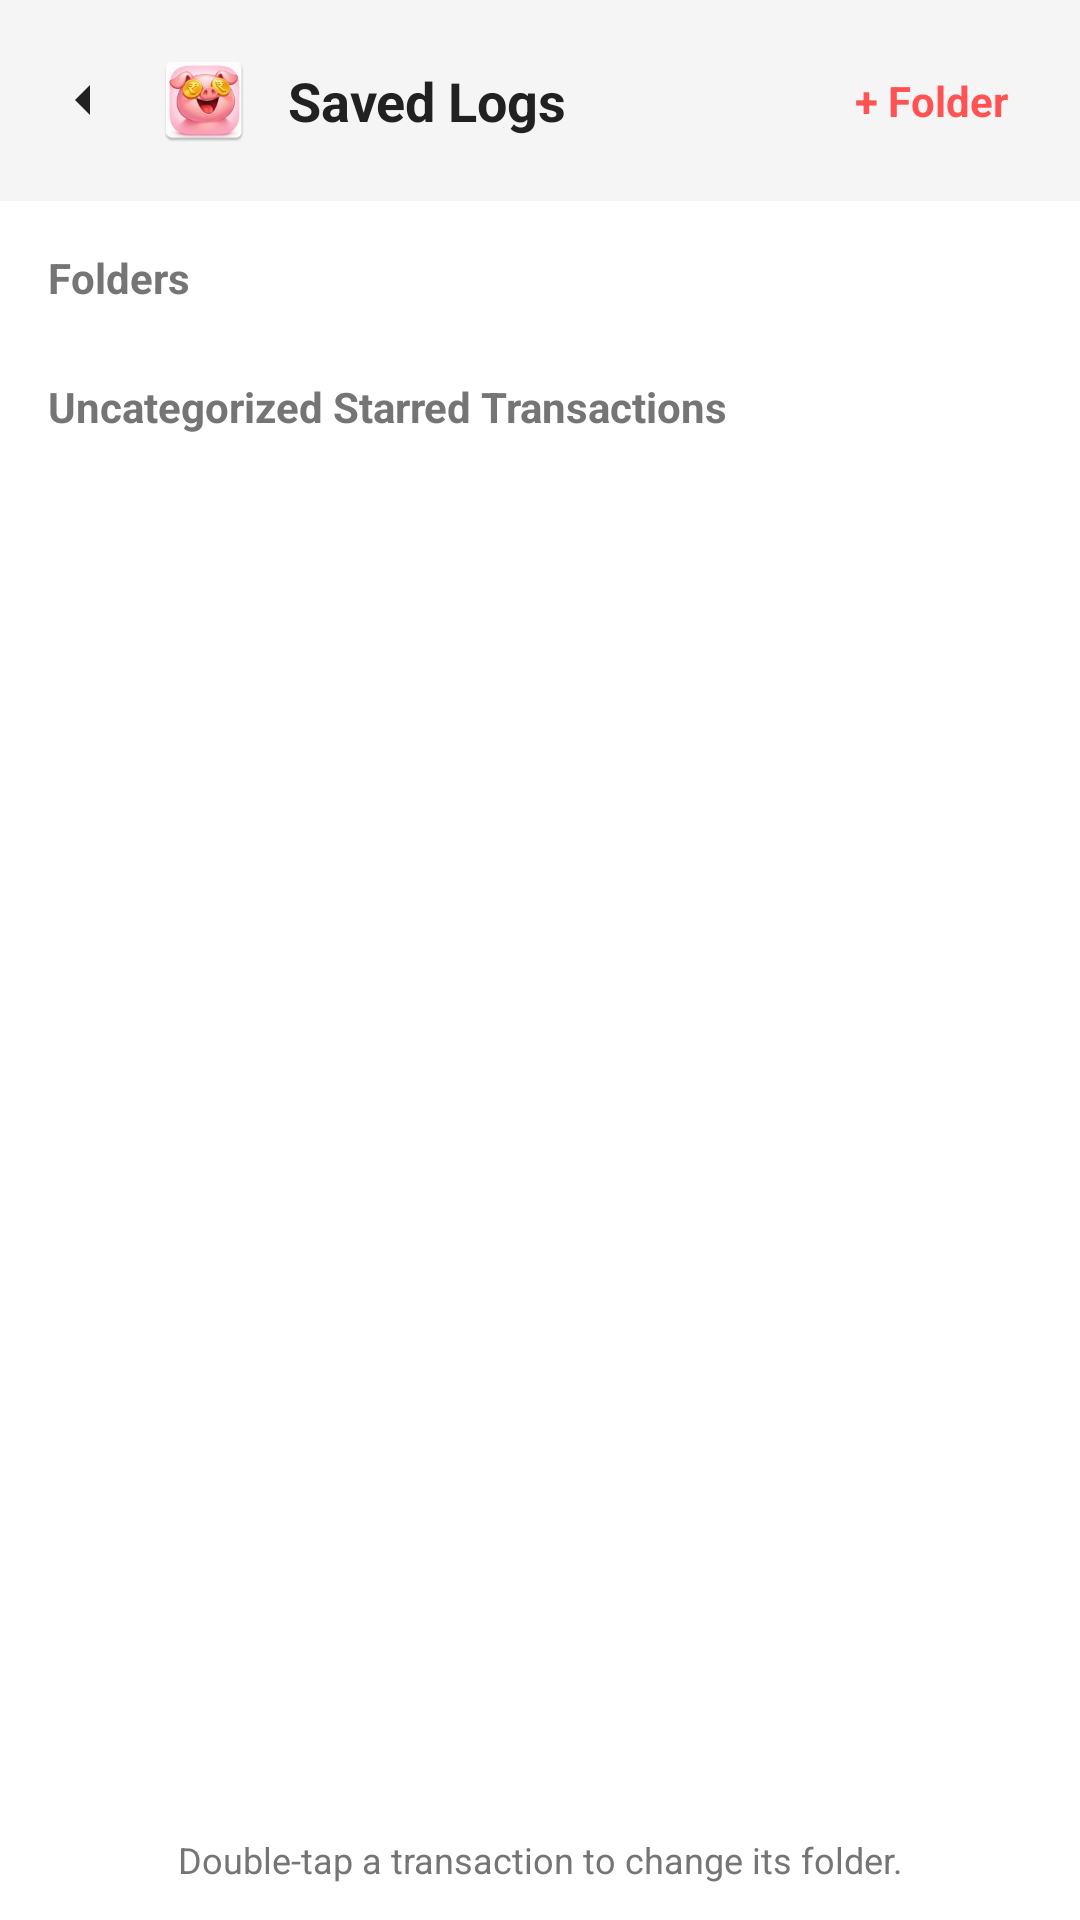

Locate icon controls on the screen. Image size 1080 x 1920, boxes as (x1, y1, x2, y2).
Back: (75, 85, 90, 115)
